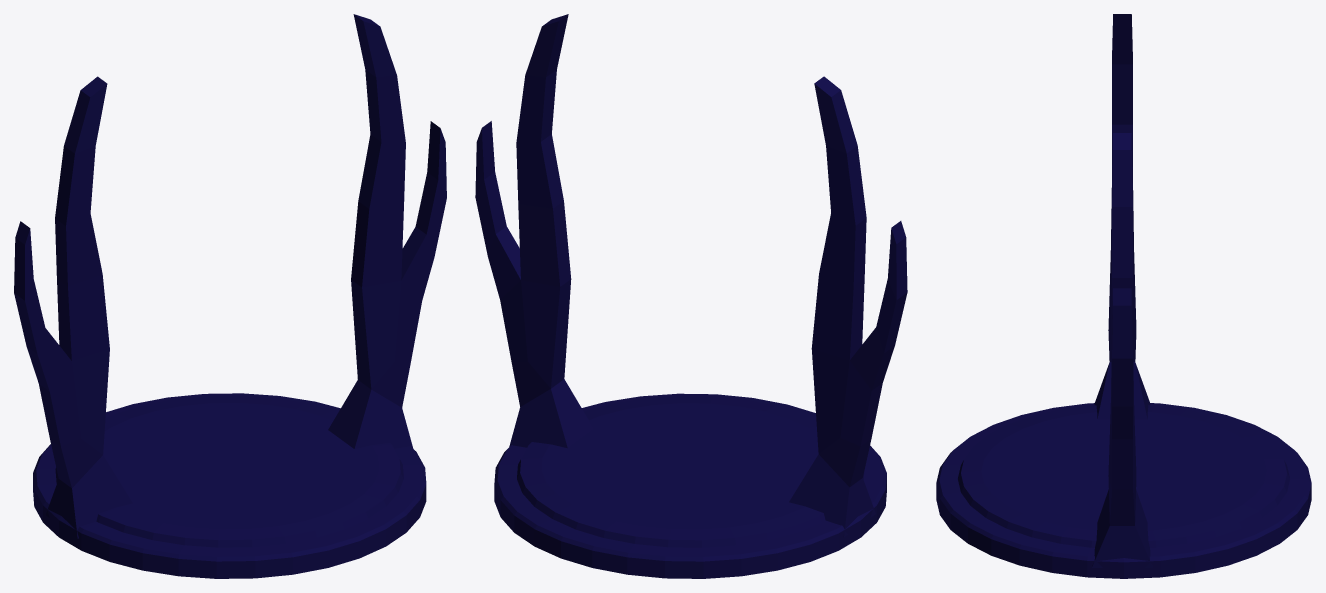
The model's file is Portal.fbx.
3 renders of one model, left to right at view 1: azimuth 30°, elevation 25°; view 2: azimuth 150°, elevation 25°; view 3: azimuth 270°, elevation 25°, orthographic. The views are drawn at different scales.
Visible parts, largest first — view 1: PortalModel; view 2: PortalModel; view 3: PortalModel.
Boxes of the visible parts, <box> form: PortalModel: <box>14,14,446,578</box>; PortalModel: <box>475,14,907,578</box>; PortalModel: <box>936,14,1311,578</box>.
Size of the model in its own units: 396 by 402 by 320.
